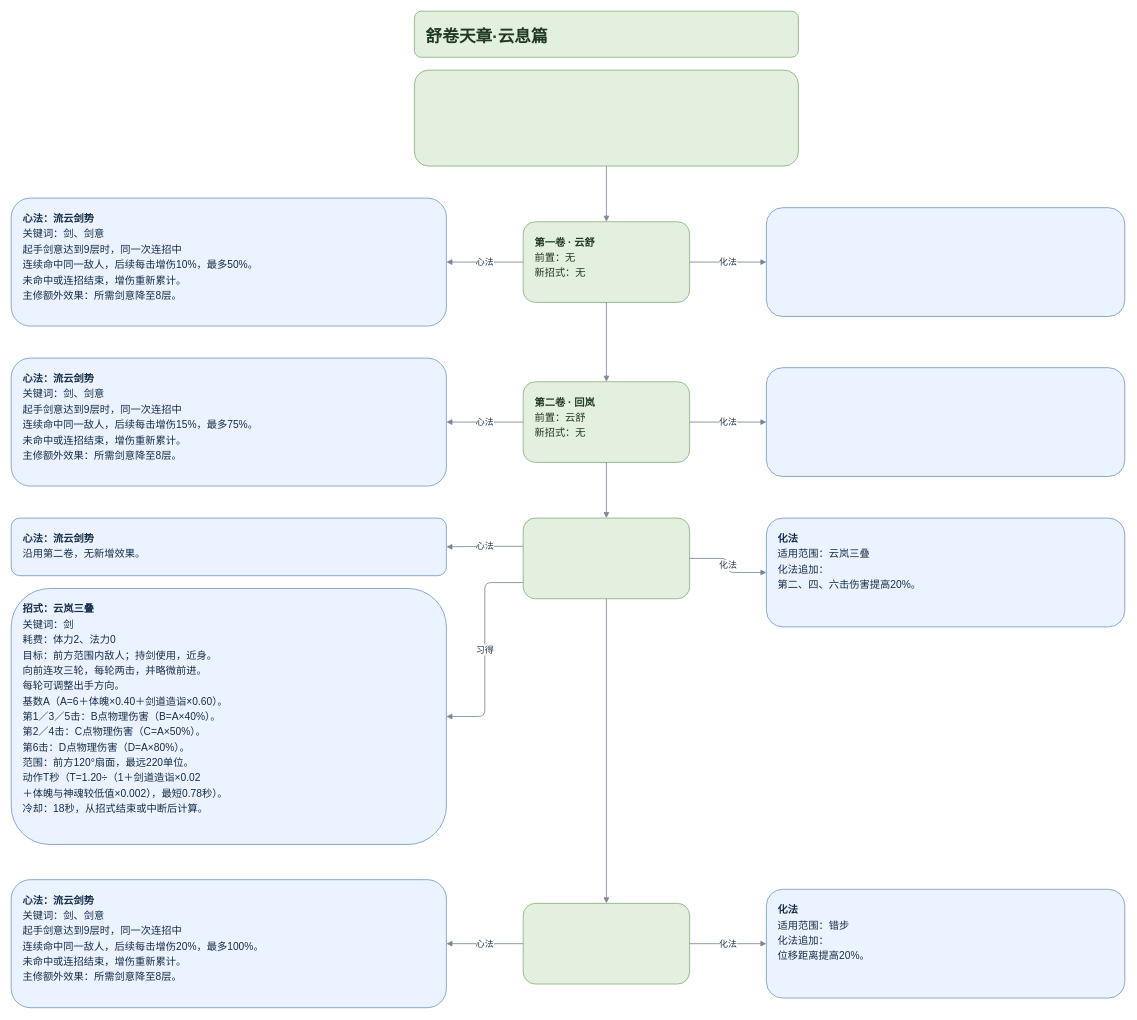
The diagram is 1137 pixels wide and 1020 high, and some of its shapes have lost their labels. The shapes that lost their labels are listed below. From the top down, each one's centre as x and y in pixels, then its label:
At [606,117]: "云息篇 · 四卷 可主修、可辅修 剑式每段命中积1层剑意，上限10层。 4秒未再积累，开始每秒失去1层。".
At [945,262]: "化法 适用范围：架招 化法追加： 持剑时，本次架招首次实际化解伤害， 获得2层剑意。".
At [945,422]: "化法 适用范围：剑式 化法追加： 第二、三段的前进距离提高50%。".
At [606,558]: "第三卷 · 逐影 前置：回岚 新招式：云岚三叠".
At [606,943]: "第四卷 · 天章 前置：逐影 新招式：无".
